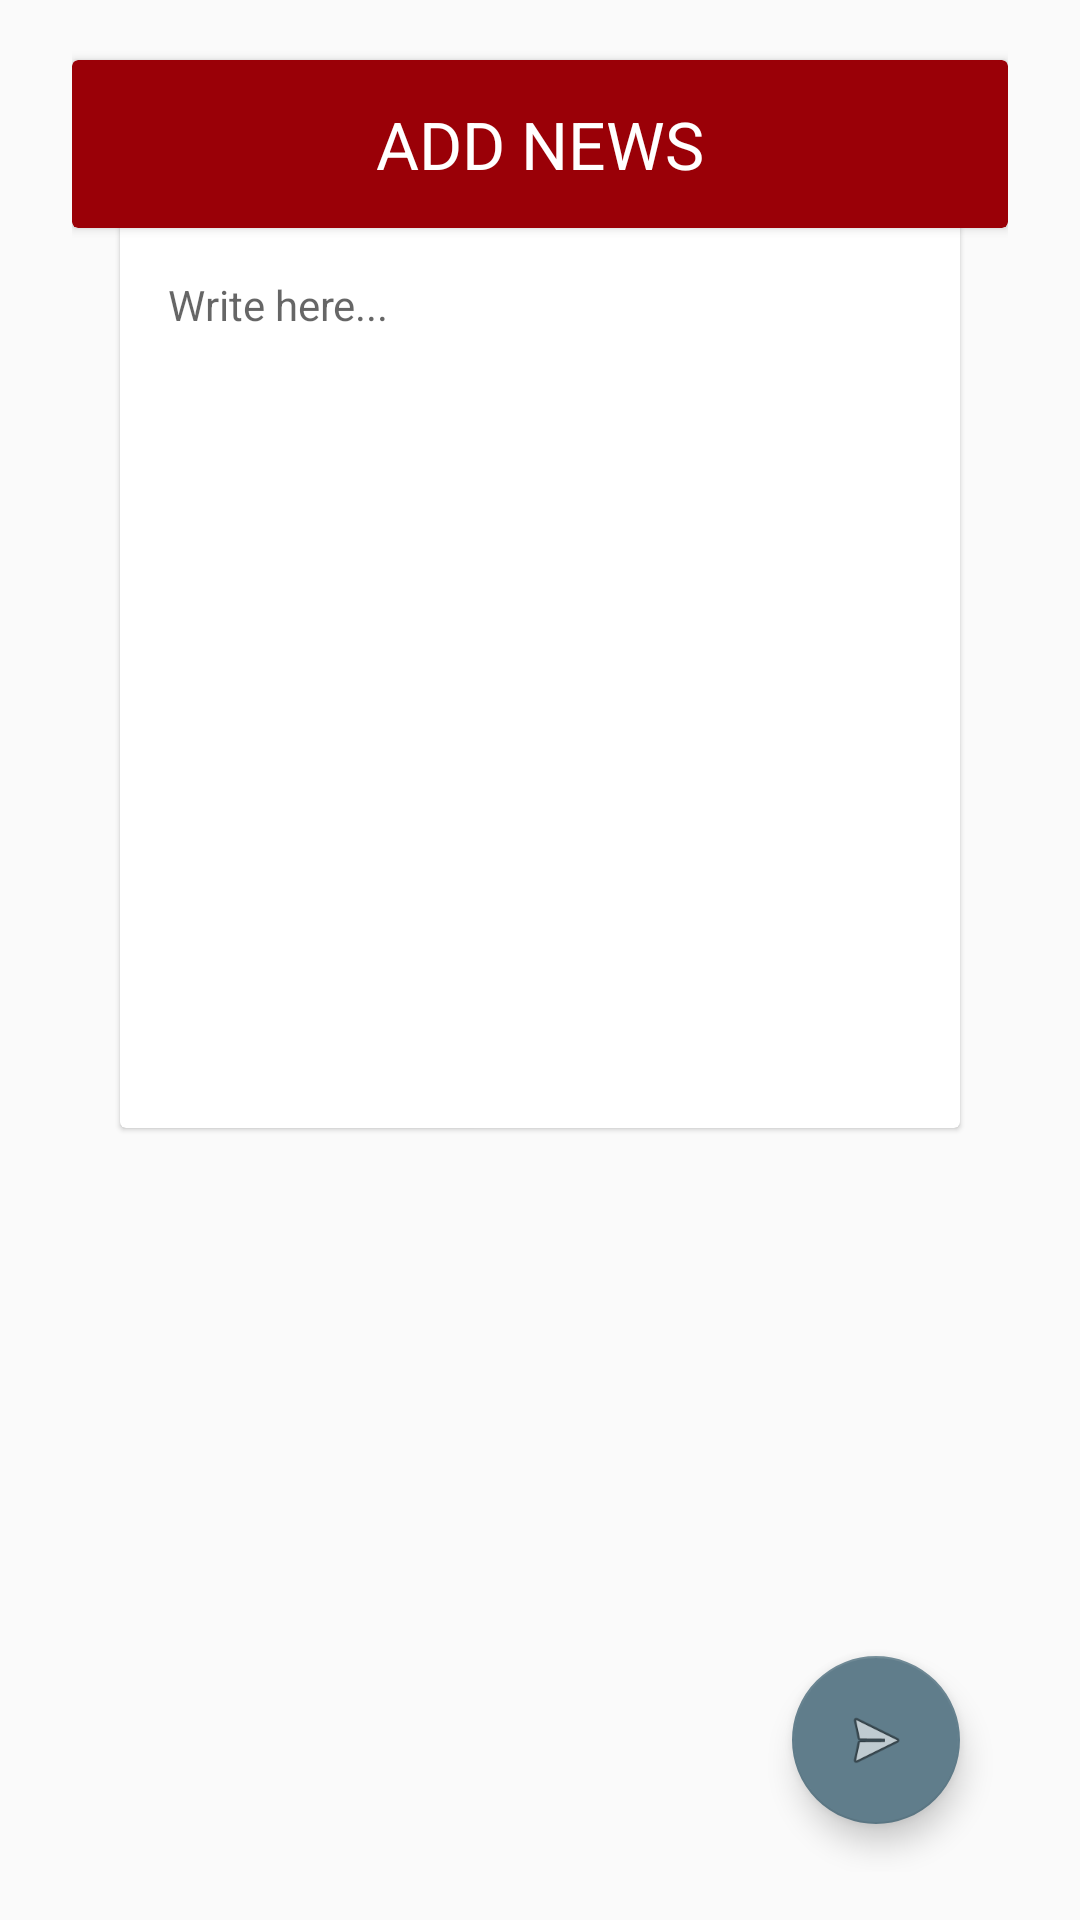

Screen size 1080*1920. Icon name, then its box in pixels as (x1, y1, x2, y2):
send: (792, 1656, 960, 1824)
